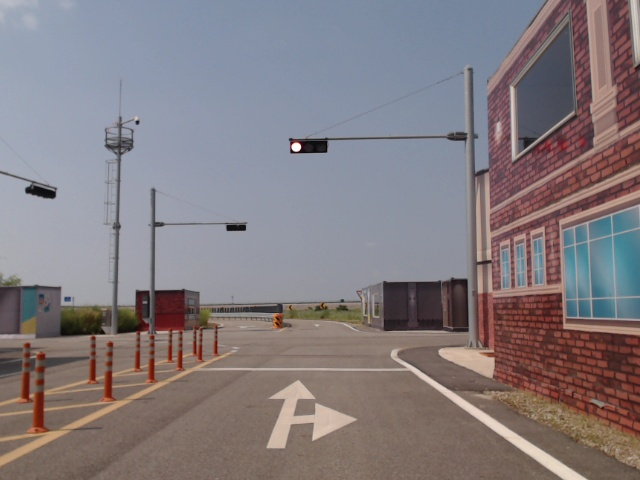red_3: (291, 139, 328, 153)
